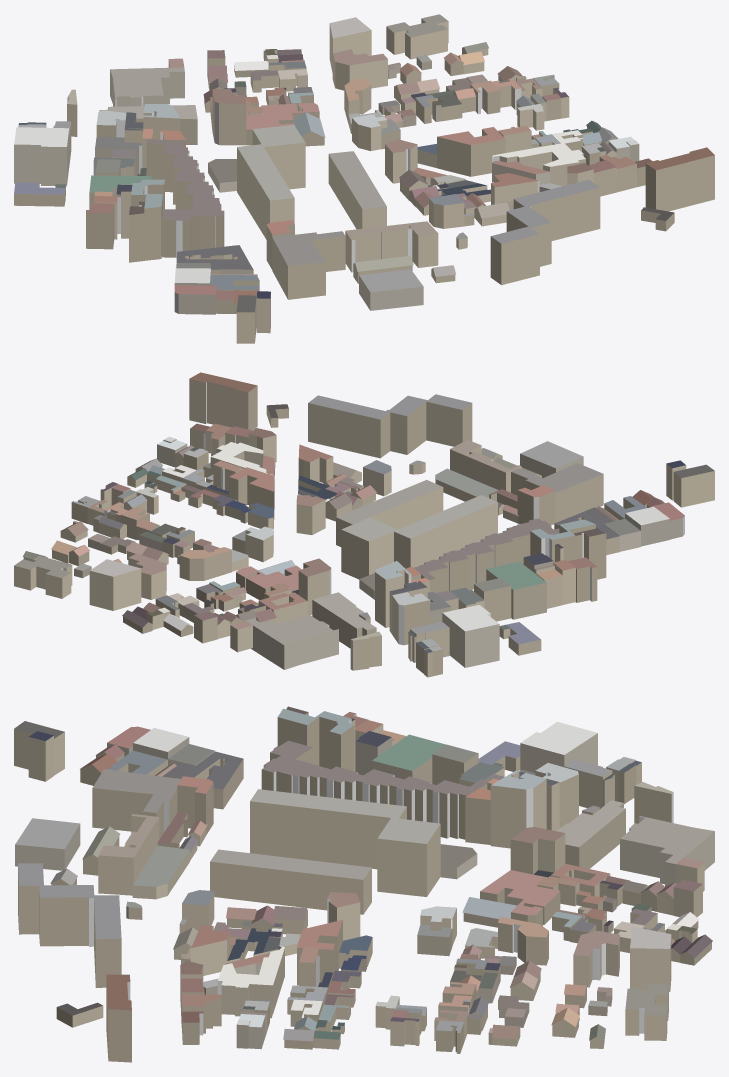
The picture shows the model from 3 angles, top to bottom: view 1: azimuth 30°, elevation 25°; view 2: azimuth 150°, elevation 25°; view 3: azimuth 270°, elevation 25°; orthographic projection. The views are drawn at different scales.
Parts seen in each view (by area): view 1: tuile; view 2: tuile; view 3: tuile.
Boxes of the visible parts, x1,y1,x2,y2 form: tuile: [14, 14, 714, 343]; tuile: [14, 372, 714, 677]; tuile: [14, 706, 714, 1062].
Bounding box in the file's own units: 273 × 29.69 × 264.
